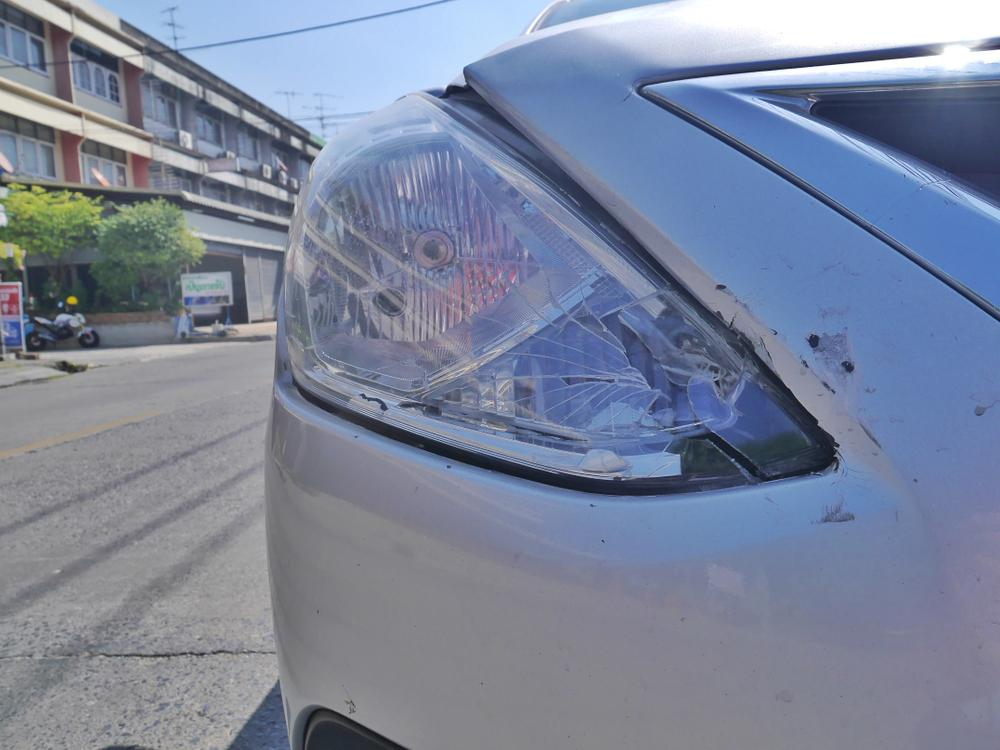lamp broken: (283, 96, 833, 492)
scratch: (712, 273, 994, 534)
